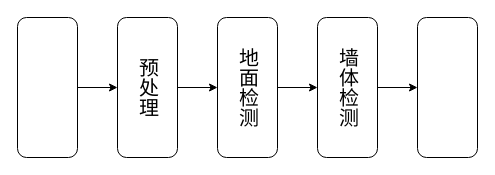
This 495x175 diagram has some shape labels left out. Each missing label, with the box of its shape:
剪叶聚类: (416, 16, 478, 158)
原始点云数据: (16, 16, 78, 158)
